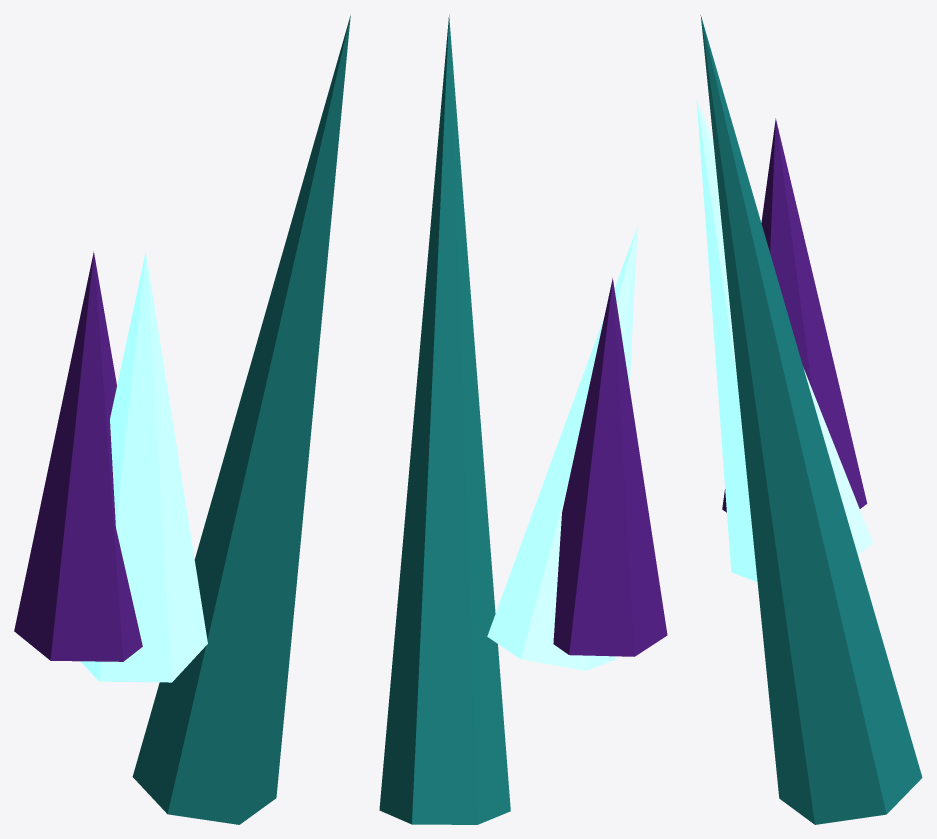
Rendered from Prop_OR_Crystal_04.glb.
3 views of the same model, side by side, from view 1: azimuth 30°, elevation 25°; view 2: azimuth 150°, elevation 25°; view 3: azimuth 270°, elevation 25° (orthographic). The views are drawn at different scales.
Visible parts, largest first — view 1: Prop_OR_Crystal_04; view 2: Prop_OR_Crystal_04; view 3: Prop_OR_Crystal_04.
Part boxes in pixels (<box>): Prop_OR_Crystal_04: <box>14,15,350,824</box>; Prop_OR_Crystal_04: <box>379,14,667,824</box>; Prop_OR_Crystal_04: <box>696,15,922,824</box>.
Bounding box in the file's own units: 0.5373 × 1.56 × 0.389.
